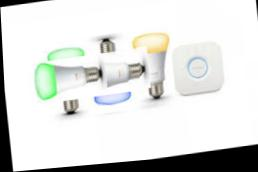Bulb: (33, 46, 98, 114), (75, 42, 140, 109), (123, 29, 174, 112)
